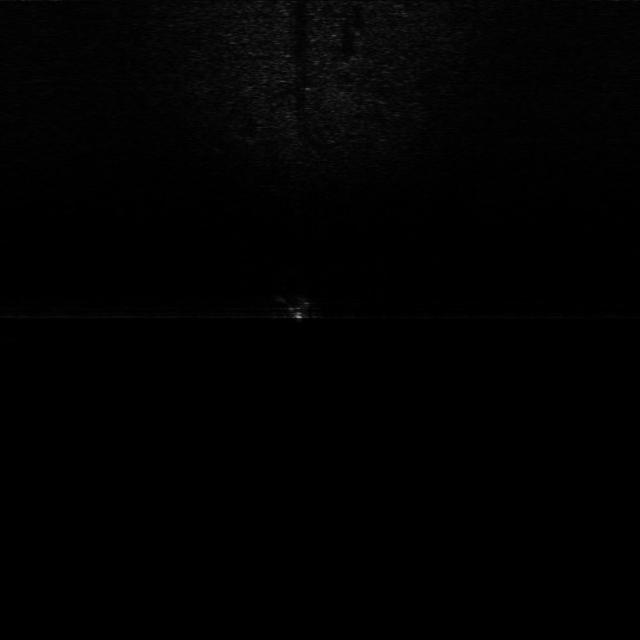human body: (270, 281, 324, 325)
